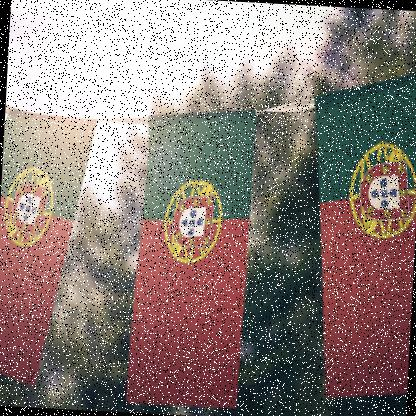pt: (126, 103, 258, 409), (300, 68, 416, 405), (1, 107, 98, 392)
